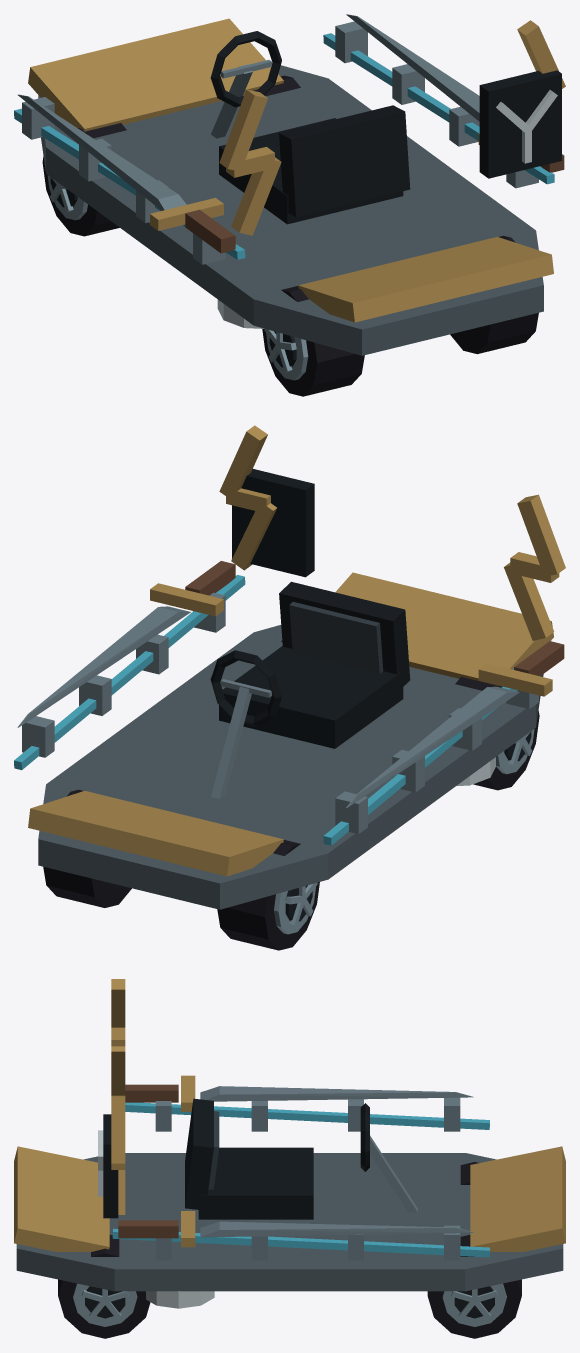
Rendered from kart.glb.
3 renders of one model, top to bottom at view 1: azimuth 30°, elevation 25°; view 2: azimuth 150°, elevation 25°; view 3: azimuth 270°, elevation 25°, orthographic. The views are drawn at different scales.
Parts seen in each view (by area): view 1: identity-hoverboard-hoverboard-turned-up-deck, identity-hoverboard-motif-flux-coils, identity-hoverboard-driver-cockpit, identity-hoverboard-motif-swords, identity-hoverboard-motif-electric, wheel-rear-left, wheel-front-left, wheel-rear-right; view 2: identity-hoverboard-hoverboard-turned-up-deck, identity-hoverboard-driver-cockpit, identity-hoverboard-motif-flux-coils, identity-hoverboard-motif-swords, identity-hoverboard-motif-electric, wheel-front-left, wheel-front-right, wheel-rear-left; view 3: identity-hoverboard-hoverboard-turned-up-deck, identity-hoverboard-driver-cockpit, identity-hoverboard-motif-flux-coils, identity-hoverboard-motif-swords, wheel-rear-right, wheel-front-right, identity-hoverboard-motif-electric.
Boxes of the visible parts, <box> form: identity-hoverboard-hoverboard-turned-up-deck: <box>28,18,553,355</box>; identity-hoverboard-motif-flux-coils: <box>14,21,561,264</box>; identity-hoverboard-driver-cockpit: <box>210,31,410,224</box>; identity-hoverboard-motif-swords: <box>17,14,564,253</box>; identity-hoverboard-motif-electric: <box>219,20,565,235</box>; wheel-rear-left: <box>262,286,364,396</box>; wheel-front-left: <box>42,123,126,236</box>; wheel-rear-right: <box>450,235,538,354</box>; identity-hoverboard-hoverboard-turned-up-deck: <box>28,572,553,909</box>; identity-hoverboard-driver-cockpit: <box>210,581,410,798</box>; identity-hoverboard-motif-flux-coils: <box>14,469,538,845</box>; identity-hoverboard-motif-swords: <box>17,561,564,807</box>; identity-hoverboard-motif-electric: <box>219,425,565,640</box>; wheel-front-left: <box>217,840,319,950</box>; wheel-front-right: <box>43,789,131,907</box>; wheel-rear-left: <box>455,677,539,790</box>; identity-hoverboard-hoverboard-turned-up-deck: <box>14,1146,565,1308</box>; identity-hoverboard-driver-cockpit: <box>185,1098,417,1219</box>; identity-hoverboard-motif-flux-coils: <box>98,1097,489,1260</box>; identity-hoverboard-motif-swords: <box>118,1075,473,1247</box>; wheel-rear-right: <box>58,1234,150,1338</box>; wheel-front-right: <box>427,1234,521,1338</box>; identity-hoverboard-motif-electric: <box>111,979,125,1214</box>.
Bounding box in the file's own units: 2.04 × 1.49 × 2.93.
